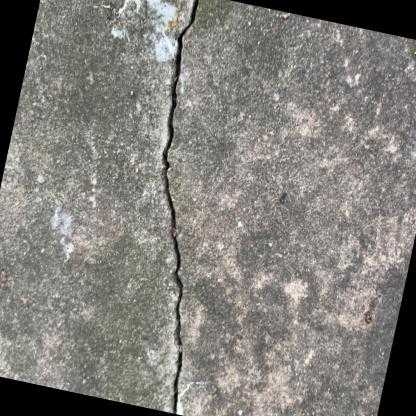crack: (160, 0, 201, 414)
